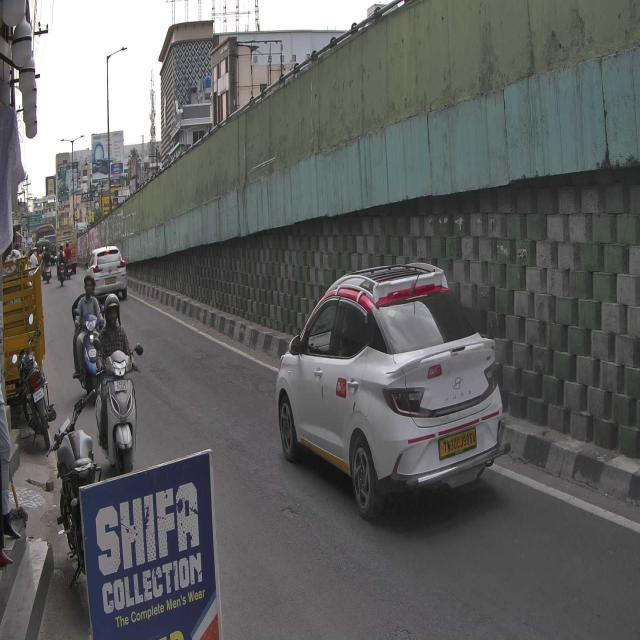single_rider: (94, 292, 144, 474)
